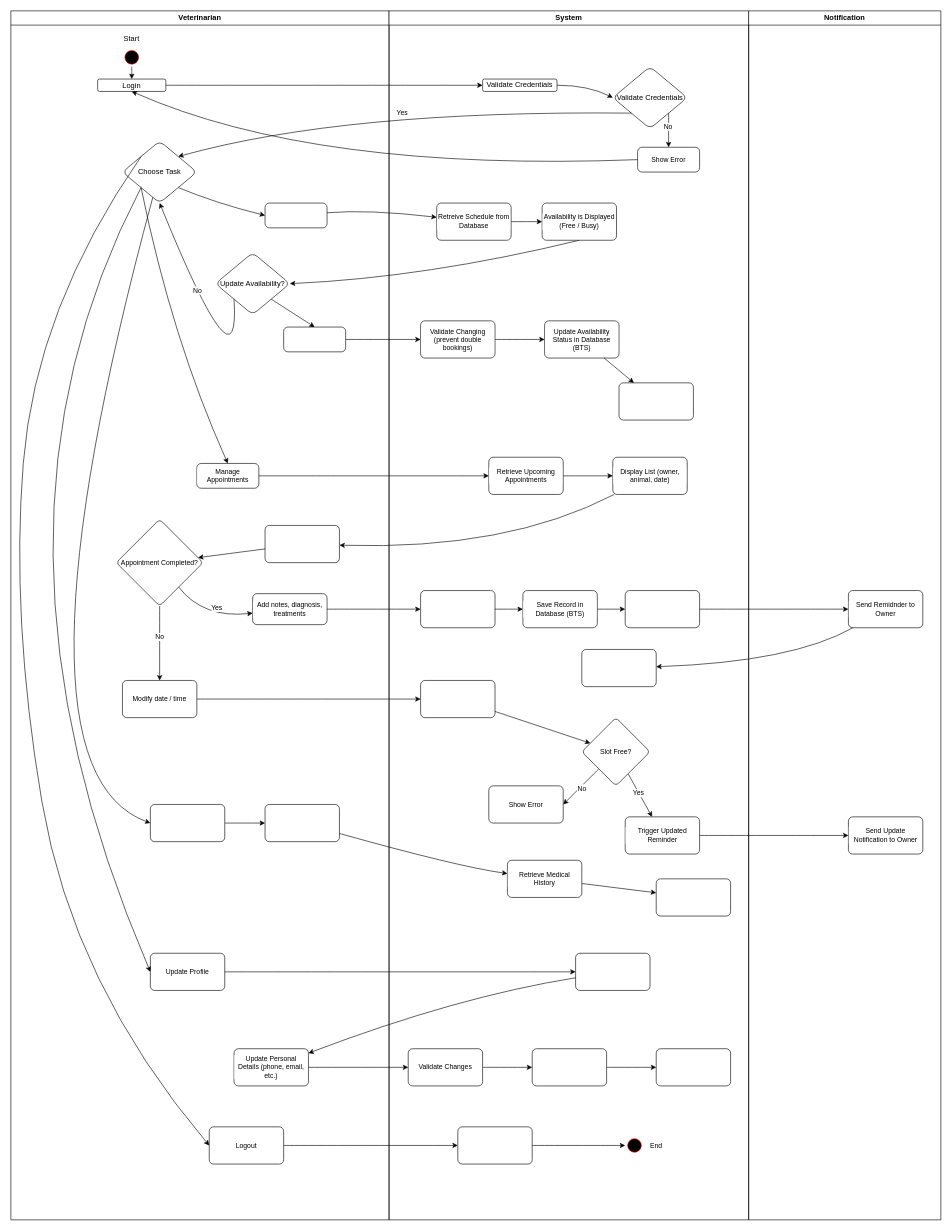
Some shapes in this 952 by 1231 pixel diagram are drawn without their labels. The shapes that lost their labels are listed below. From the top down, each one's centre as x and y in pixels, then its label:
point 295,215: View Schedule
point 314,339: Modify Time Slot
point 655,401: Show Confirmation
point 301,544: Select Appointment
point 457,609: Validate and Record Medical History Entry
point 662,609: Trigger Notification
point 618,668: Update Status to "Completed"
point 457,699: Check Slot Availability
point 187,823: View Animal Medical History
point 301,823: Select Animal Record
point 693,897: Display Complete Record
point 612,971: Fetch Profile Into
point 569,1067: Update Information in Database (BTS)
point 693,1067: Show Updated Info
point 494,1145: Terminate Session
